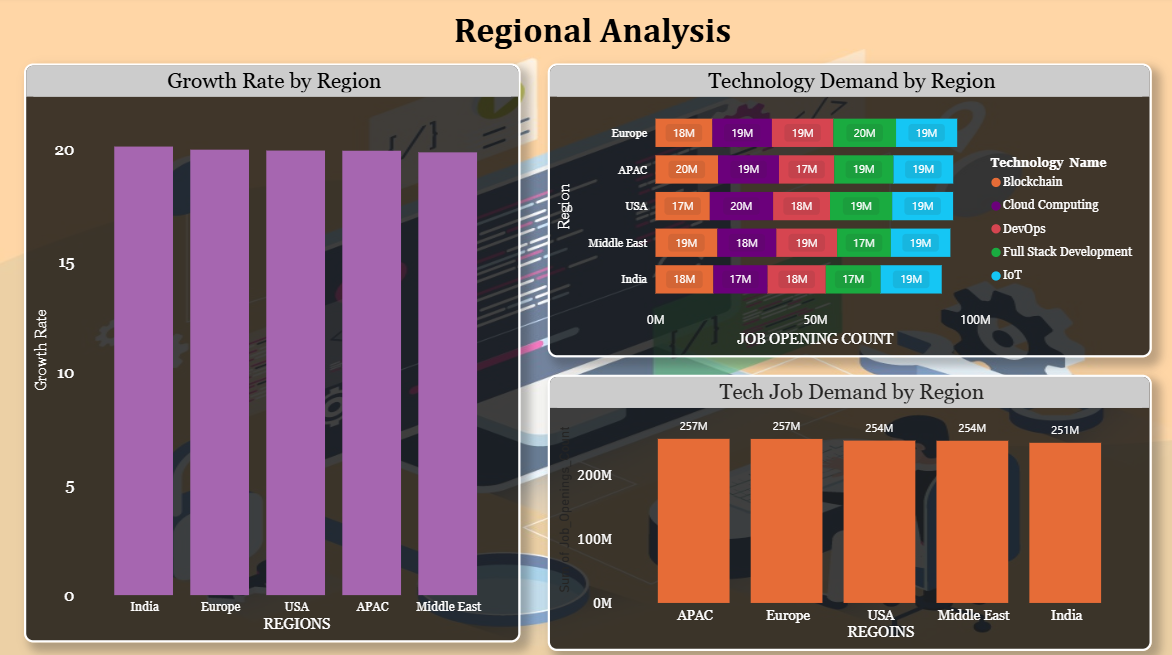

The dashboard page shown, as its layout file describes it:
{"tool":"powerbi","page":{"name":"Page 4","canvas":[1280,720],"ordinal":3},"visuals":[{"type":"textbox","box":[9.6,9.6,1270.7,54.9],"z":0},{"type":"clusteredColumnChart","title":"Tech Job Demand by Region","fields":{"Category":["TechData.Region"],"Y":["Sum(TechData.Job_Openings_Count)"]},"box":[596,411.4,655.8,300],"z":1000},{"type":"barChart","title":"Technology Demand by Region","fields":{"Category":["TechData.Region"],"Y":["Sum(TechData.Job_Openings_Count)"],"Series":["TechData.Technology_Name"]},"box":[596,73.3,655.8,319.1],"z":2000},{"type":"clusteredColumnChart","title":"Growth Rate by Region","fields":{"Category":["TechData.Region"],"Y":["Avg(TechData.Growth_Rate_%)"]},"box":[27.2,73.3,539,628.6],"z":3000}]}

Visuals, with their boxes in screenshot pixels (x1, y1, x2, y2), scaled from the page's 1280x720 canvas onto the 1172x655 screenshot:
textbox: (9, 9, 1171, 59)
"Tech Job Demand by Region" clusteredColumnChart: (546, 374, 1146, 647)
"Technology Demand by Region" barChart: (546, 67, 1146, 357)
"Growth Rate by Region" clusteredColumnChart: (25, 67, 518, 639)
